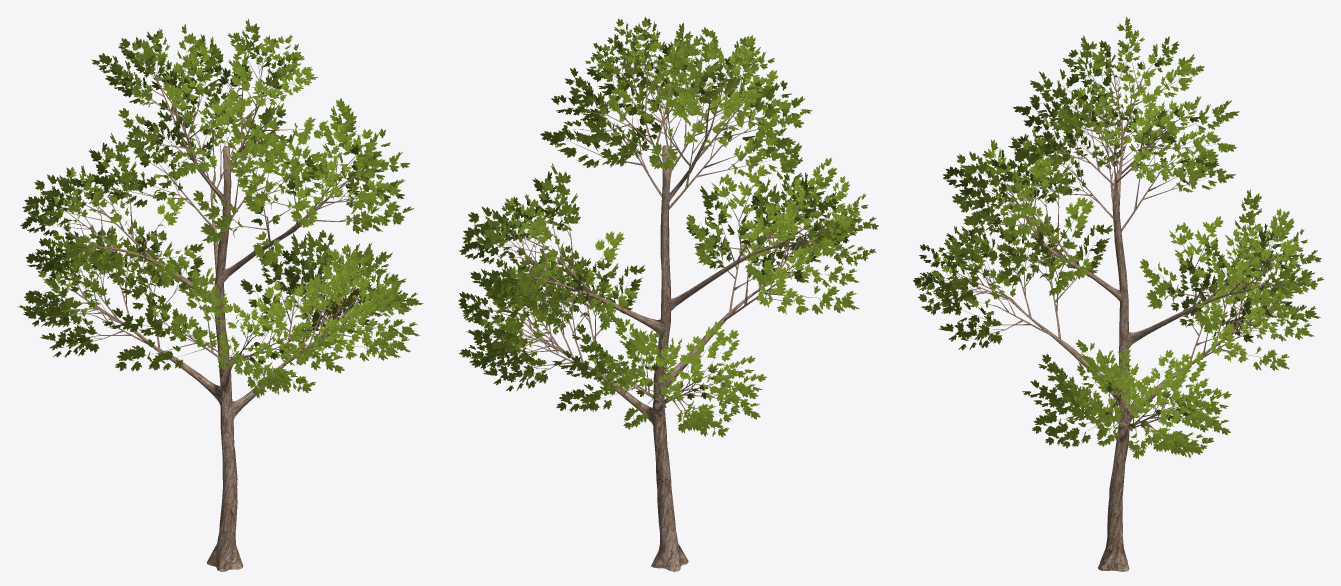
The model's file is maple8.obj.
3 renders of one model, left to right at view 1: azimuth 30°, elevation 25°; view 2: azimuth 150°, elevation 25°; view 3: azimuth 270°, elevation 25°, orthographic. The views are drawn at different scales.
Parts seen in each view (by area): view 1: leaf maple, bark02; view 2: leaf maple, bark02; view 3: leaf maple, bark02.
Boxes of the visible parts, x1,y1,x2,y2 form: leaf maple: (17,18,423,398); bark02: (39,38,398,571); leaf maple: (458,17,878,437); bark02: (476,41,862,571); leaf maple: (913,17,1323,459); bark02: (926,49,1303,571).
Size of the model in its own units: 609 by 803 by 590.
2 materials, 2 textured.
